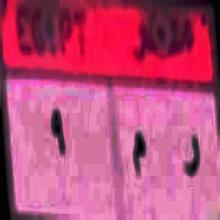9: (50, 101, 68, 164)
meem: (131, 126, 149, 183)
raa: (180, 122, 202, 186)
